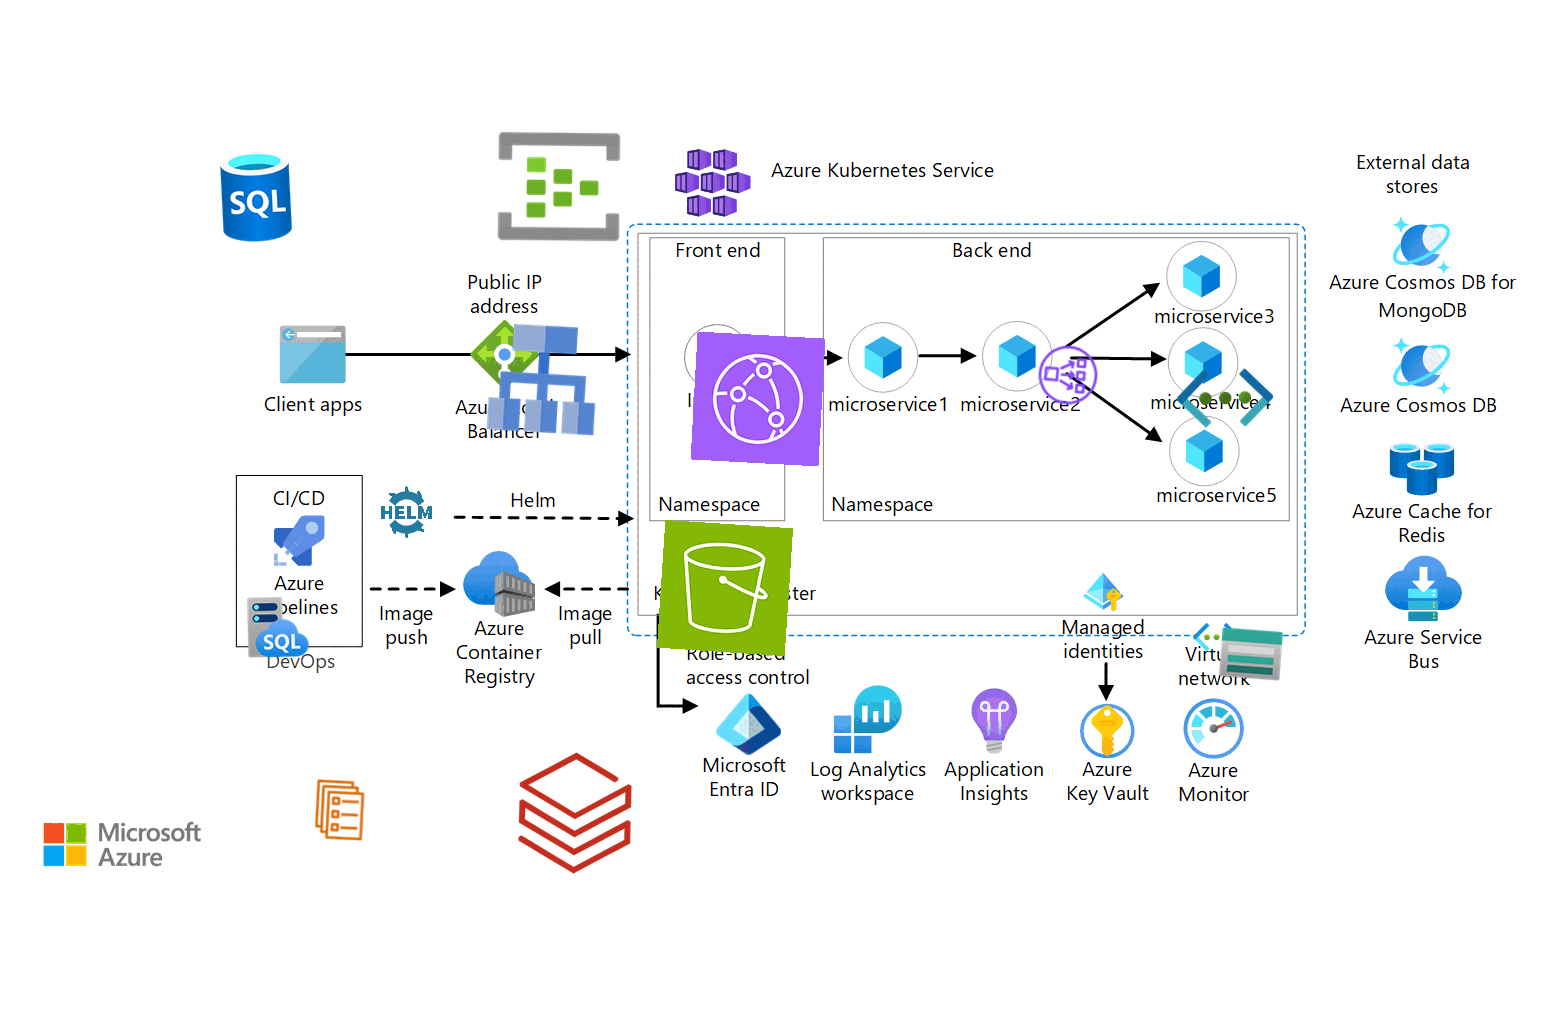aws_amazon_cloudfront: (690, 331, 826, 467)
aws_amazon_simple_storage_service: (657, 519, 794, 657)
aws_elastic_container_service_service: (306, 776, 374, 844)
aws_elastic_load_balancing_network_load_balancer: (1033, 340, 1103, 410)
azure_databricks: (509, 747, 640, 879)
azure_event_hubs: (494, 121, 624, 251)
azure_sql_database: (205, 146, 307, 246)
azure_sql_managed_instance: (245, 594, 310, 660)
azure_storage_accounts: (1216, 619, 1286, 689)
azure_virtual_networks: (1176, 348, 1275, 448)
gcp_cloud_load_balancing: (475, 311, 611, 447)
